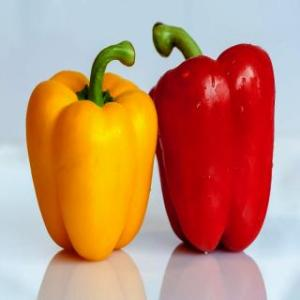bell_pepper: (154, 20, 278, 258), (27, 30, 152, 262)
